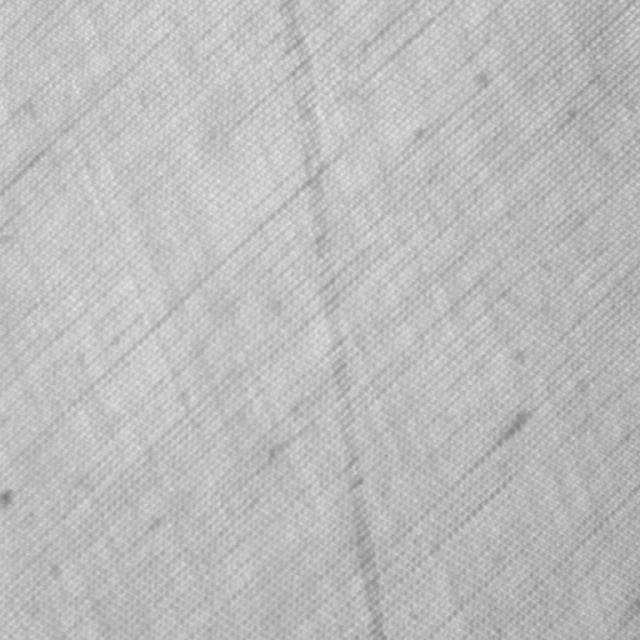oil spot: (273, 0, 382, 639)
